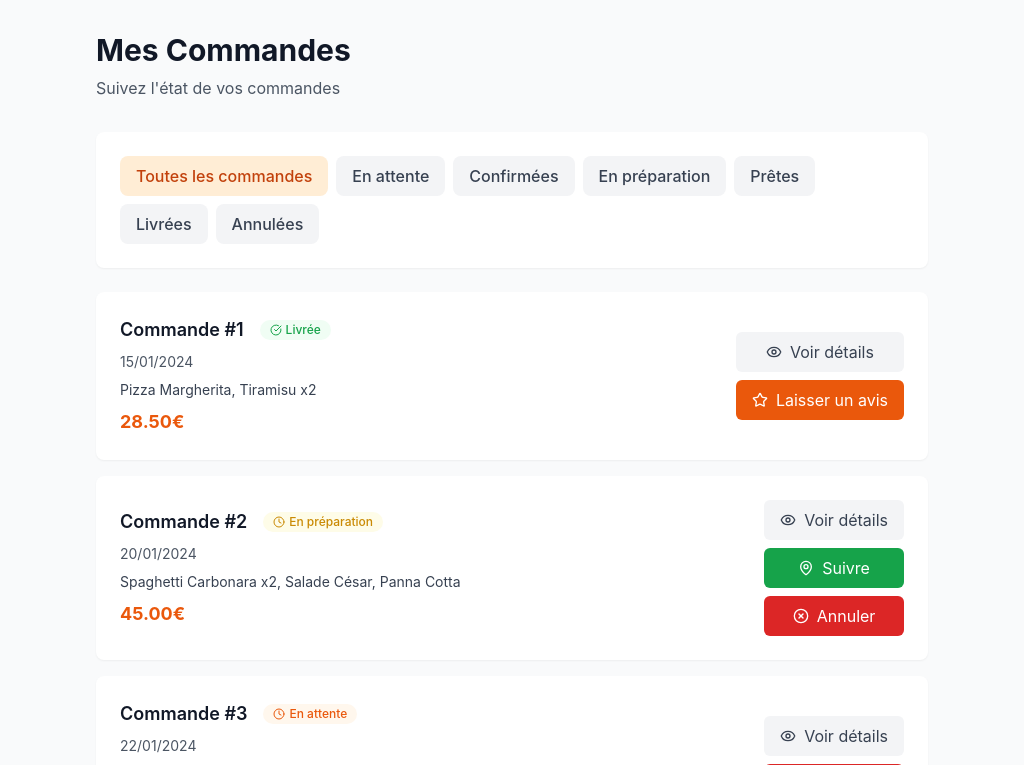
Orders Component › should filter orders by status when filter buttons are clicked
Note: Click on "Livrées" filter
Click the button "Livrées": (164, 224) [120,204,208,244]
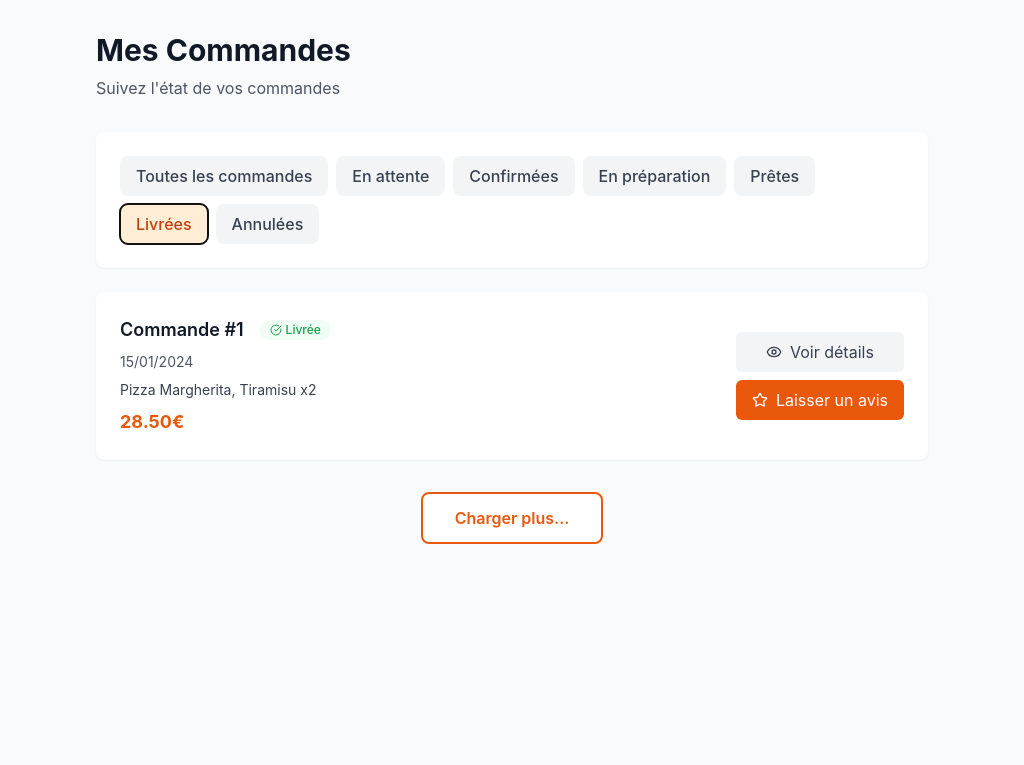
expect the heading "Commande #1" is shown: met, box [120,316,244,344]
expect the heading "Commande #2" is gone: met
expect the heading "Commande #3" is gone: met
